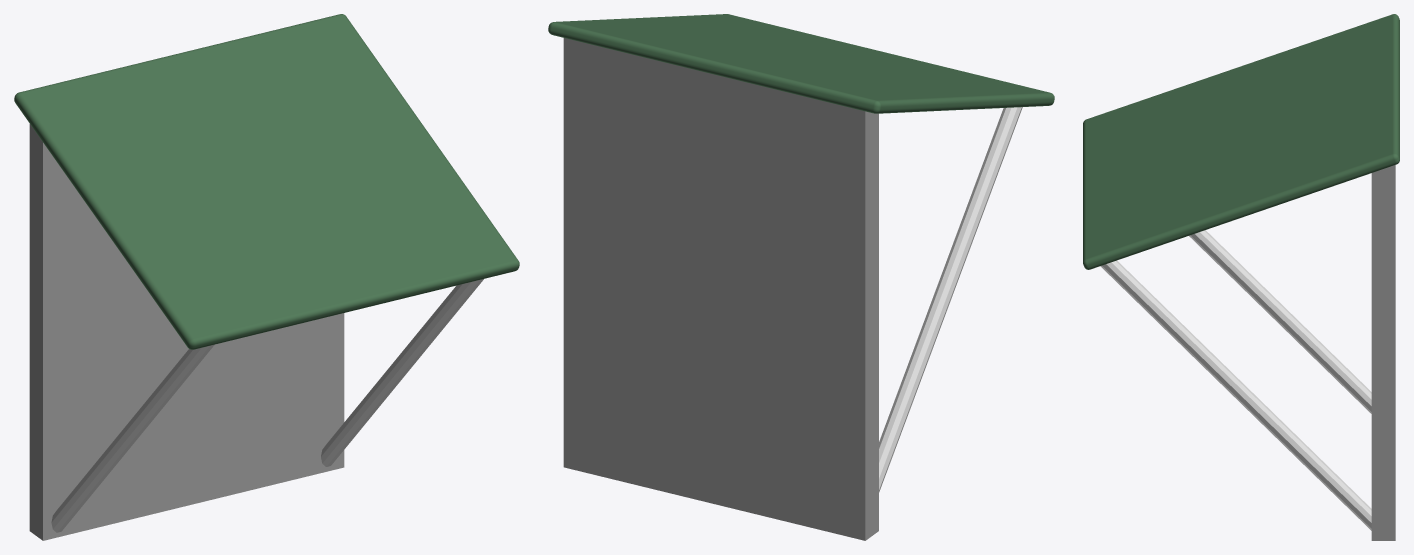
Rendered from window_single.fbx.
3 renders of one model, left to right at view 1: azimuth 30°, elevation 25°; view 2: azimuth 150°, elevation 25°; view 3: azimuth 270°, elevation 25°, orthographic. The views are drawn at different scales.
Visible parts, largest first — view 1: pCube41, pCube40, pCylinder3; view 2: pCube40, pCube41, pCylinder3; view 3: pCube41, pCylinder3, pCube40.
Boxes of the visible parts, x1,y1,x2,y2 form: pCube41: (14, 14, 519, 349); pCube40: (29, 124, 344, 540); pCylinder3: (51, 279, 483, 532); pCube40: (563, 38, 878, 540); pCube41: (548, 14, 1054, 113); pCylinder3: (879, 107, 1022, 492); pCube41: (1083, 14, 1399, 269); pCylinder3: (1100, 230, 1371, 530); pCube40: (1371, 165, 1395, 540).
Size of the model in its own units: 2.13 by 2.72 by 1.99.
